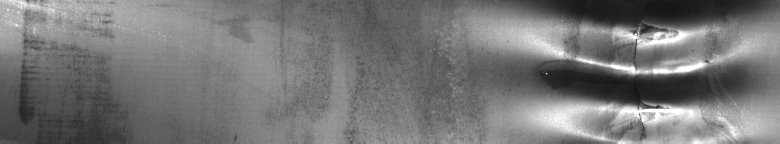ke: (537, 8, 741, 136)
